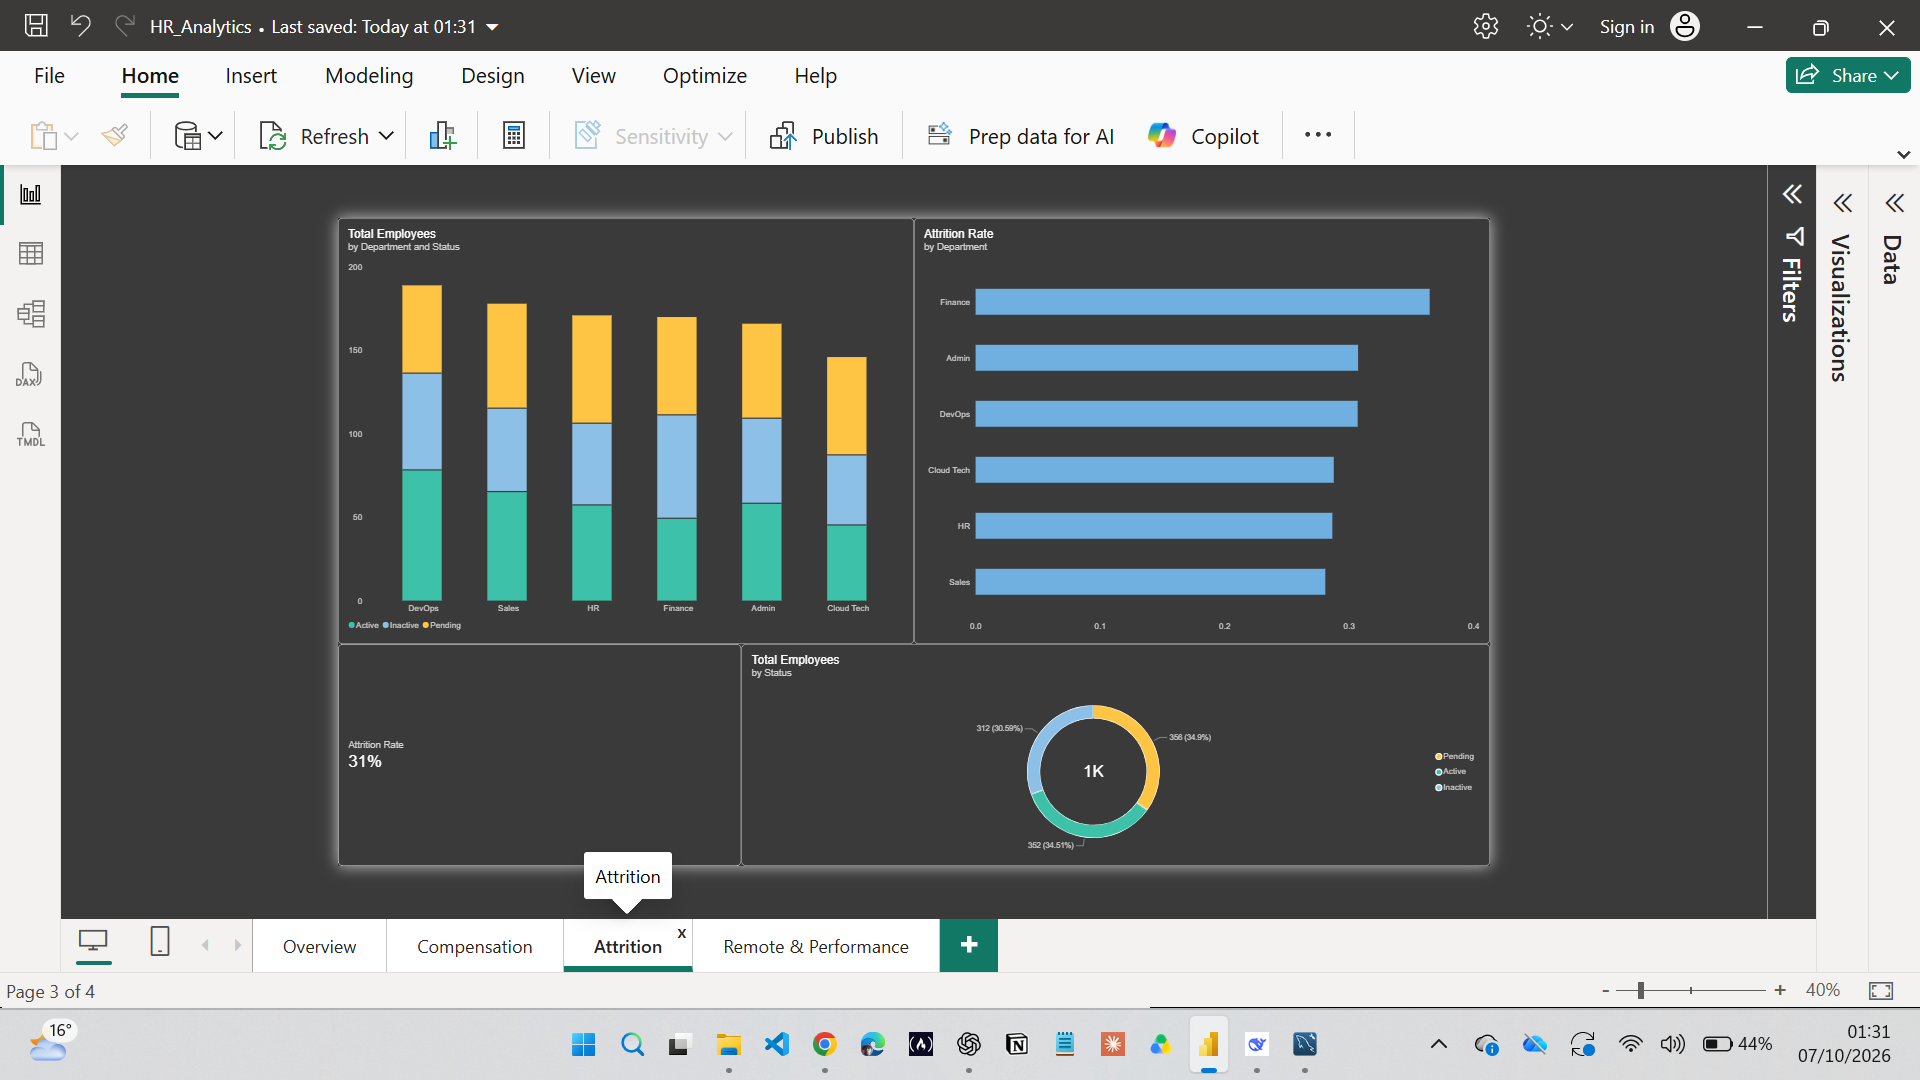

What the dashboard file says about the page in this screenshot:
{"tool":"powerbi","page":{"name":"Attrition","canvas":[1920,1080],"ordinal":2},"visuals":[{"type":"cardVisual","fields":{"Data":["Employees.Attrition Rate"]},"box":[0,710,672.5,370],"z":0},{"type":"donutChart","fields":{"Category":["Employees.Status"],"Y":["Employees.Total Employees"]},"box":[672.5,710,1247.5,370],"z":1},{"type":"barChart","fields":{"Category":["Employees.Department"],"Y":["Employees.Attrition Rate"]},"box":[960,0,960,710],"z":2},{"type":"columnChart","fields":{"Category":["Employees.Department"],"Series":["Employees.Status"],"Y":["Employees.Total Employees"]},"box":[0,0,960,710],"z":3}]}

Visuals, with their boxes on the page's 1920x1080 design canvas (x1, y1, x2, y2). These are canvas units, not pixel positions in the 1920x1080 screenshot, which may show the page scaled, cropped or inside an application window:
cardVisual - Employees.Attrition Rate: x1=0, y1=710, x2=672, y2=1080
donutChart - Employees.Status x Employees.Total Employees: x1=672, y1=710, x2=1920, y2=1080
barChart - Employees.Department x Employees.Attrition Rate: x1=960, y1=0, x2=1920, y2=710
columnChart - Employees.Department x Employees.Status: x1=0, y1=0, x2=960, y2=710
